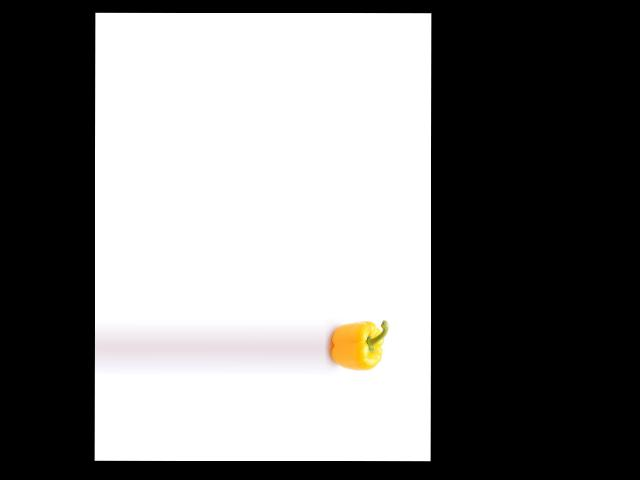bell_pepper: (329, 318, 386, 375)
